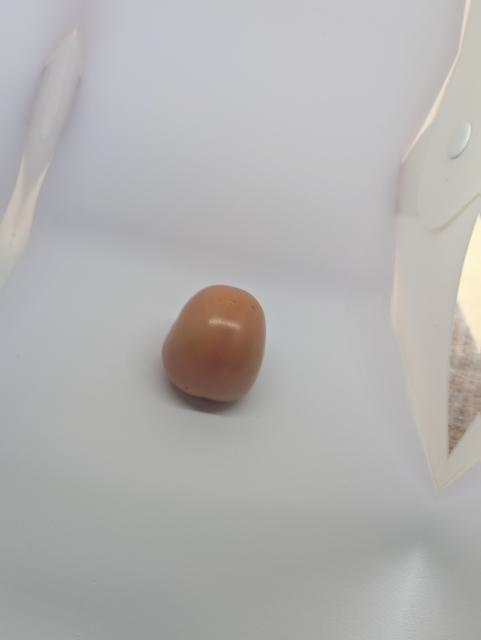turning: (152, 280, 274, 414)
